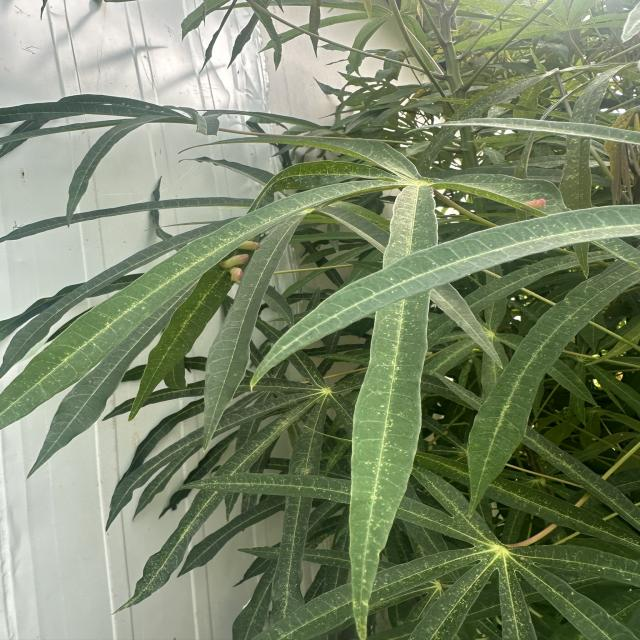Mosca: (226, 220, 269, 263), (213, 245, 253, 291), (506, 181, 555, 211)
